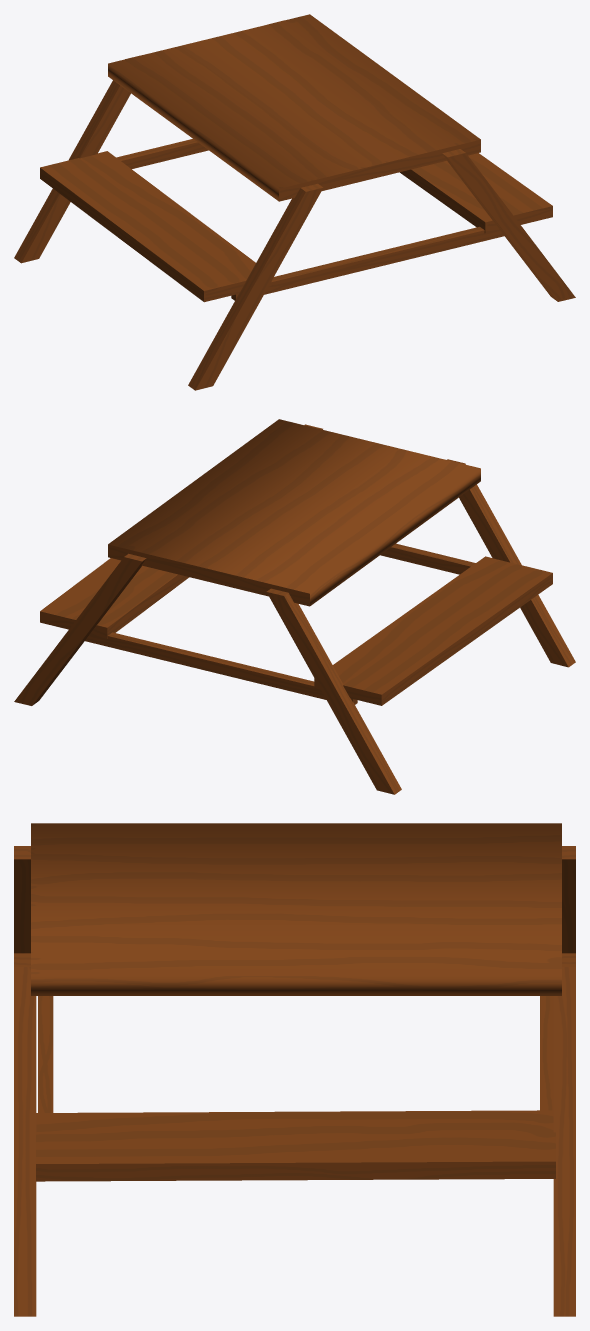
Rendered from Bench.glb.
3 views of the same model, one above another, from view 1: azimuth 30°, elevation 25°; view 2: azimuth 150°, elevation 25°; view 3: azimuth 270°, elevation 25° (orthographic). The views are drawn at different scales.
Visible parts, largest first — view 1: Cube.002; view 2: Cube.002; view 3: Cube.002.
Boxes of the visible parts, bbox=[...] form: Cube.002: bbox=[14, 14, 575, 390]; Cube.002: bbox=[14, 419, 575, 794]; Cube.002: bbox=[14, 823, 575, 1316].
Size of the model in its own units: 2.33 by 1.03 by 1.92.
Materials: 1 (1 with a texture image).
